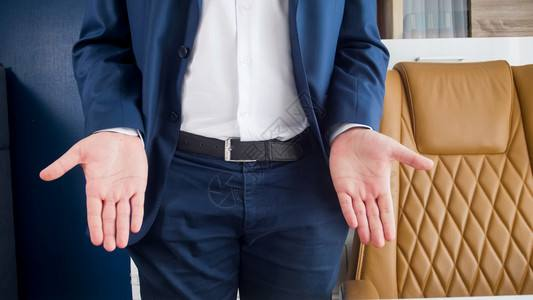no-phone: (38, 127, 152, 253), (327, 126, 435, 249)
